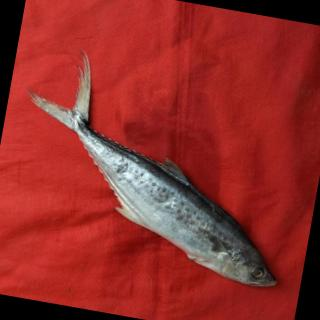Ikan: (4, 65, 313, 300)
